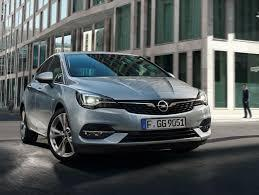opel: (154, 98, 169, 114)
